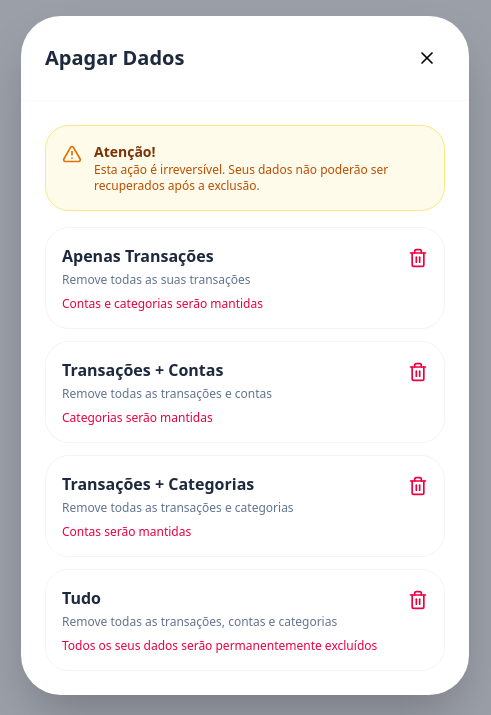
Test: DataErasureModal › shows confirmation screen when a mode is selected
Click the text "Apenas Transações": (138, 256) [62,244,214,266]
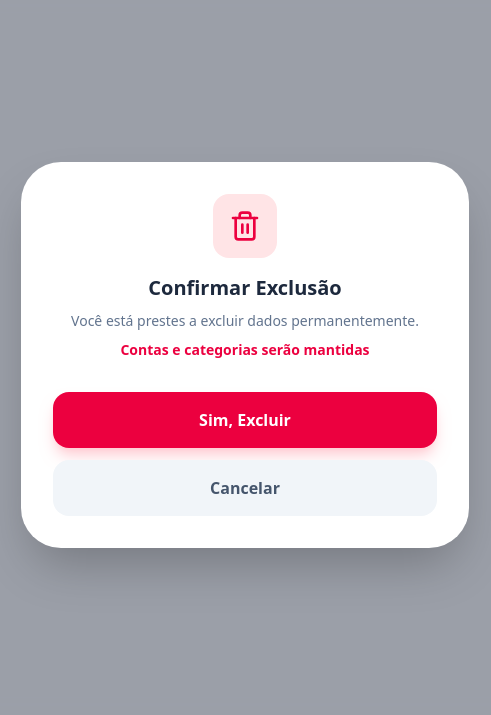
Result: the heading "Confirmar Exclusão" is shown at [148,274,342,301]
Result: the text "Você está prestes a excluir dados permanentemente." is shown at [53,310,437,332]
